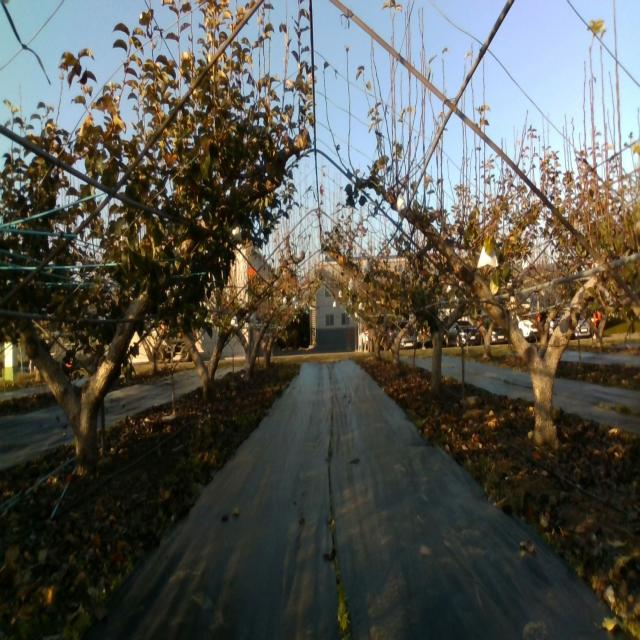pearbags: (476, 246, 499, 268), (229, 220, 243, 243), (396, 193, 406, 222)
